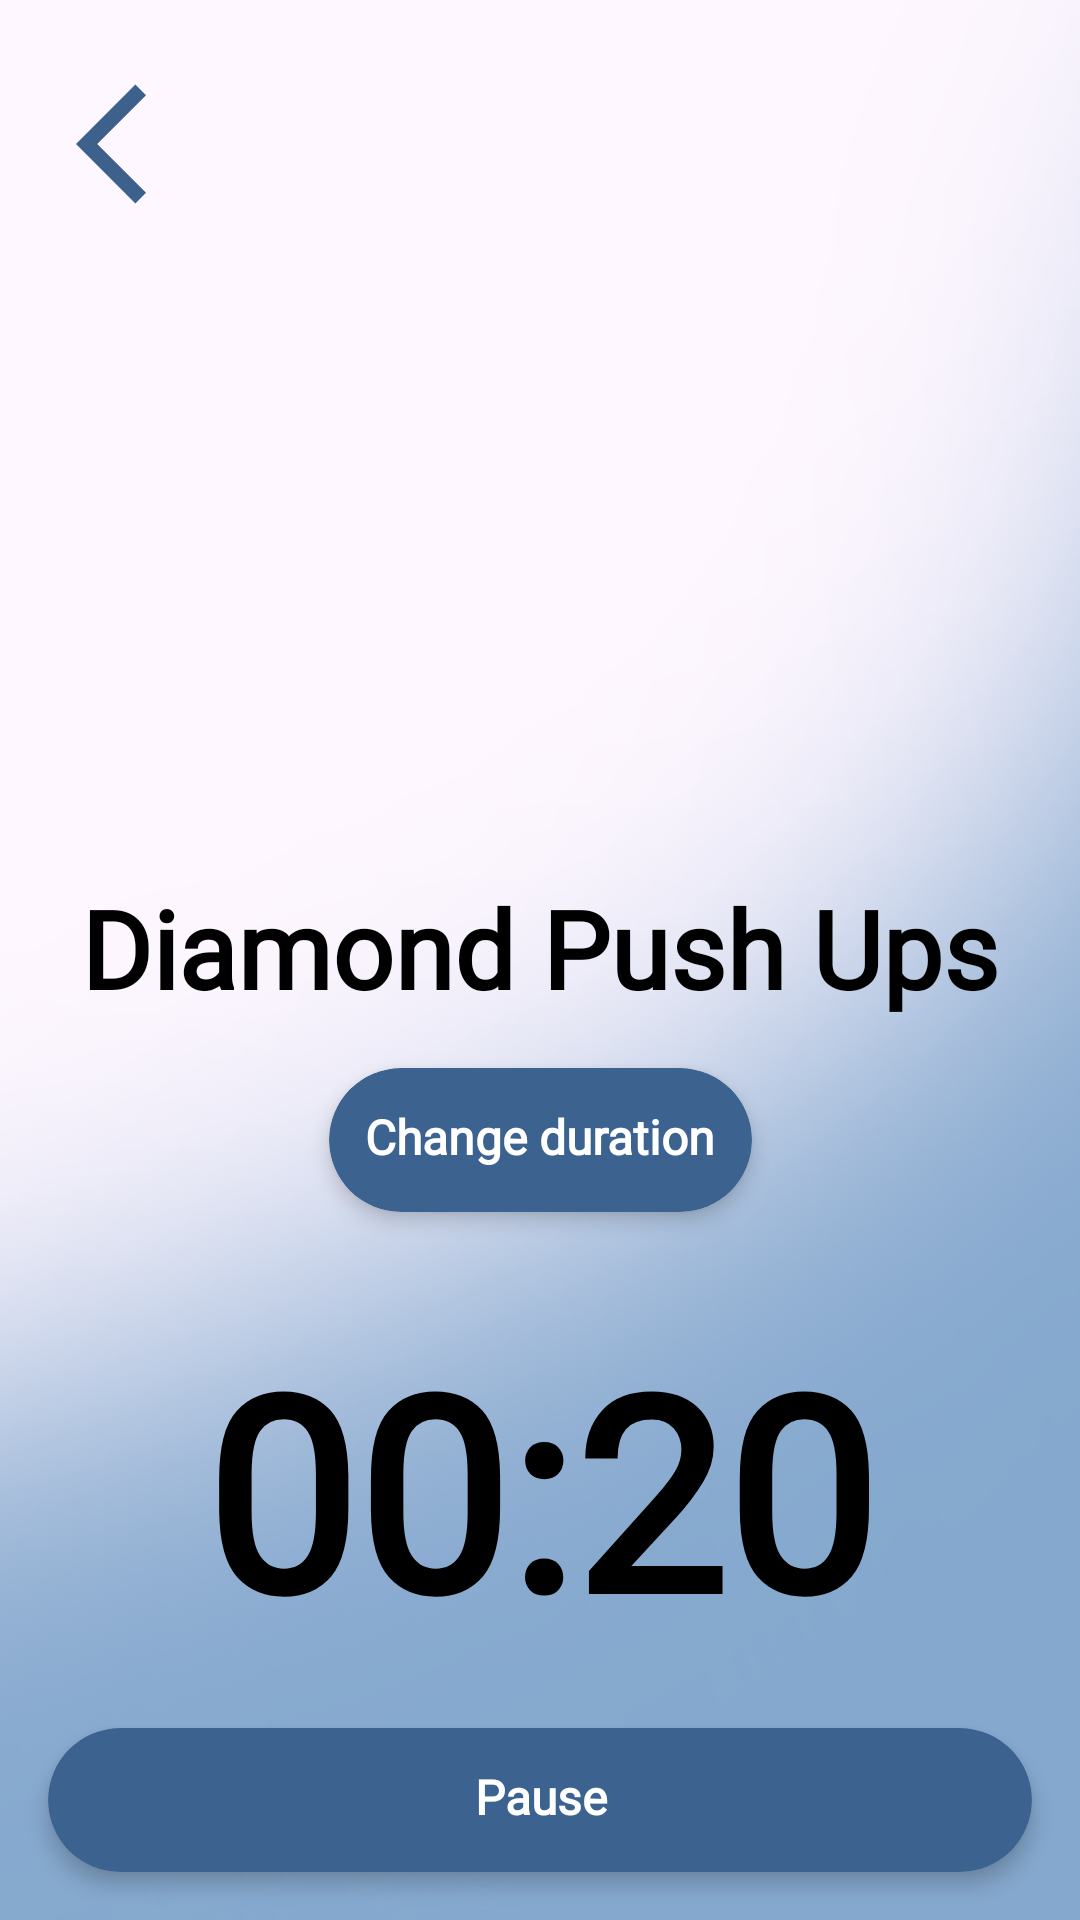

Where icons sit on this 1080x1920 app screen, as (x1, y1, x2, y2):
arrow back: (76, 84, 146, 204)
